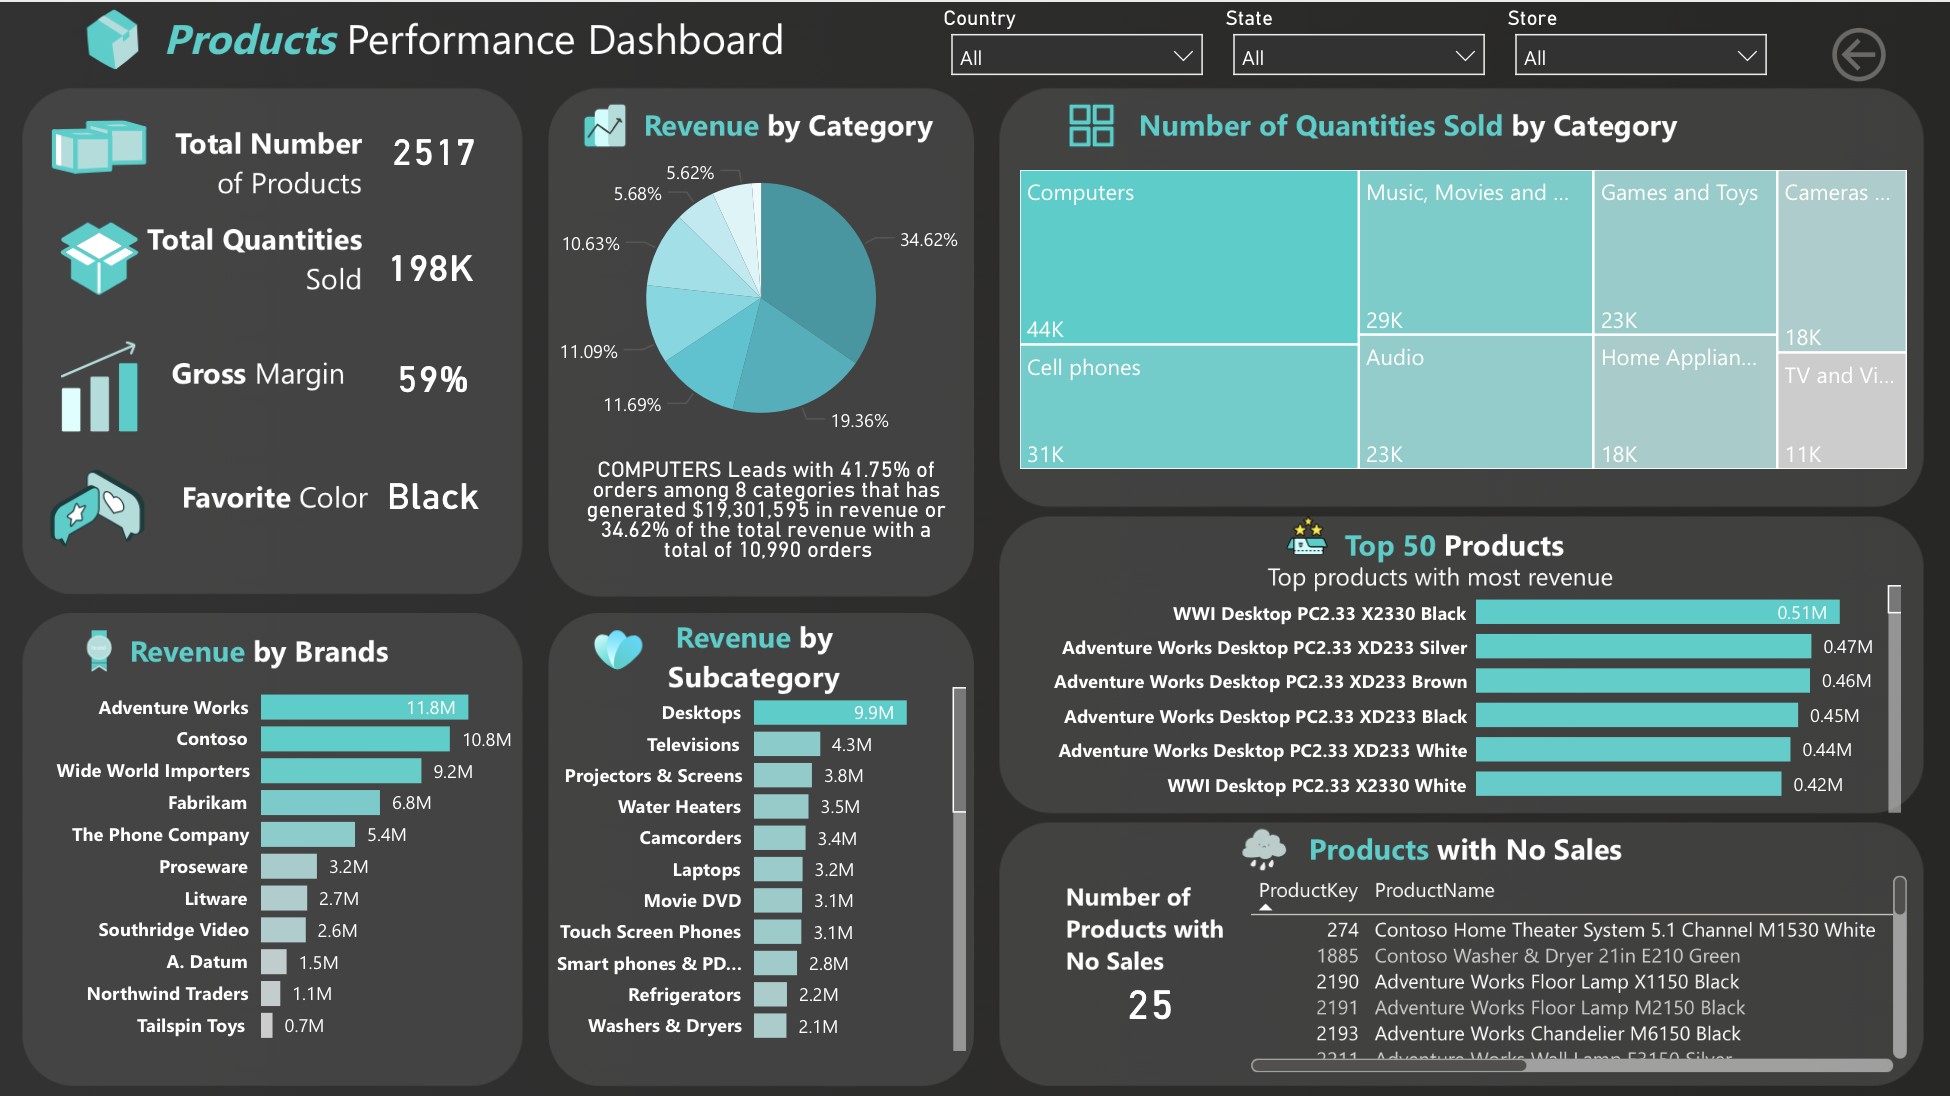

The page's visual inventory and layout, read from the dashboard file:
{"tool":"powerbi","page":{"name":"Products Performance","canvas":[1280,720],"ordinal":4},"visuals":[{"type":"card","fields":{"Values":["CountNonNull(dataspark products.ProductKey)"]},"box":[244.2,81.4,85.4,31.8],"z":0},{"type":"textbox","box":[89.3,73.5,154.9,63.5],"z":1000},{"type":"textbox","box":[97.3,0,430.9,59.6],"z":2000},{"type":"textbox","box":[81.4,407,204.5,57.6],"z":3000},{"type":"textbox","box":[395.1,397.1,202.5,67.5],"z":4000},{"type":"textbox","box":[694.9,569.9,121.1,99.3],"z":5000},{"type":"card","fields":{"Values":["CountNonNull(Query1.ProductKey)"]},"box":[665.2,619.5,182.7,73.5],"z":6000},{"type":"barChart","fields":{"Category":["dataspark products.ProductName"],"Y":["Calculations.Total Revenue"]},"box":[665.2,369.3,587.7,166.8],"z":7000},{"type":"card","fields":{"Values":["Calculations.% Gross Margin"]},"box":[182.7,224.4,206.5,43.7],"z":8000},{"type":"textbox","box":[109.2,224.4,135,63.5],"z":9000},{"type":"card","fields":{"Values":["Sum(dataspark sales.Quantity)"]},"box":[244.2,152.9,81.4,39.7],"z":10000},{"type":"textbox","box":[828,536.1,270,43.7],"z":11000},{"type":"textbox","box":[419,61.6,216.4,53.6],"z":12000},{"type":"textbox","box":[89.3,137,154.9,71.5],"z":13000},{"type":"card","fields":{"Values":["Min(dataspark products.Color)"]},"box":[234.3,285.9,103.2,73.5],"z":14000},{"type":"barChart","fields":{"Category":["dataspark products.Subcategory"],"Y":["Calculations.Total Revenue"]},"box":[347.5,436.8,291.9,256.1],"z":15000},{"type":"tableEx","fields":{"Values":["Products No orders.ProductKey","dataspark products.ProductName","dataspark products.Subcategory","dataspark products.Category","dataspark products.Brand","dataspark products.UnitCostUSD","dataspark products.UnitPriceUSD"]},"box":[816.1,567.9,440.8,139],"z":16000},{"type":"treemap","fields":{"Group":["dataspark products.Category"],"Values":["Sum(dataspark sales.Quantity)"]},"box":[665.2,105.2,591.7,206.5],"z":17000},{"type":"pieChart","fields":{"Category":["dataspark products.Category"],"Y":["Calculations.Total Revenue"]},"box":[360.5,83,279.5,222.8],"z":18000},{"type":"barChart","fields":{"Y":["Calculations.Total Revenue"],"Category":["dataspark products.Brand"]},"box":[29.8,432.9,315.7,260.1],"z":19000},{"type":"textbox","box":[115.2,287.9,146.9,99.3],"z":20000},{"type":"textbox","box":[665.2,61.6,520.2,43.7],"z":21000},{"type":"textbox","box":[694.9,337.5,520.2,43.7],"z":22000},{"type":"textbox","box":[828,343.5,369.3,53.6],"z":23000},{"type":"card","fields":{"Values":["Calculations.Caption Category Top"]},"box":[366.6,287.6,273.4,103.3],"z":24000},{"type":"slicer","title":"Country","fields":{"Values":["dataspark stores.Country"]},"box":[615.6,4.1,184.8,57.9],"z":25000},{"type":"slicer","title":"Store","fields":{"Values":["dataspark sales.StoreKey"]},"box":[985.3,4.1,184.8,57.9],"z":26000},{"type":"slicer","title":"State","fields":{"Values":["dataspark stores.State"]},"box":[800.4,4.1,184.8,57.9],"z":27000},{"type":"actionButton","box":[1197.8,6,45.9,55.9],"z":28000}]}

Visuals, with their boxes in screenshot pixels (x1, y1, x2, y2), scaled from the page's 1280x720 canvas onto the 1950x1096 screenshot:
card - CountNonNull(dataspark products.ProductKey): 372/124/502/172
textbox: 136/112/372/209
textbox: 148/0/805/91
textbox: 124/620/436/707
textbox: 602/604/910/707
textbox: 1059/868/1243/1019
card - CountNonNull(Query1.ProductKey): 1013/943/1292/1055
barChart - dataspark products.ProductName x Calculations.Total Revenue: 1013/562/1909/816
card - Calculations.% Gross Margin: 278/342/593/408
textbox: 166/342/372/438
card - Sum(dataspark sales.Quantity): 372/233/496/293
textbox: 1261/816/1673/883
textbox: 638/94/968/175
textbox: 136/209/372/317
card - Min(dataspark products.Color): 357/435/514/547
barChart - dataspark products.Subcategory x Calculations.Total Revenue: 529/665/974/1055
tableEx - Products No orders.ProductKey x dataspark products.ProductName: 1243/864/1915/1076
treemap - dataspark products.Category x Sum(dataspark sales.Quantity): 1013/160/1915/474
pieChart - dataspark products.Category x Calculations.Total Revenue: 549/126/975/465
barChart - Calculations.Total Revenue x dataspark products.Brand: 45/659/526/1055
textbox: 176/438/399/589
textbox: 1013/94/1806/160
textbox: 1059/514/1851/580
textbox: 1261/523/1824/604
card - Calculations.Caption Category Top: 558/438/975/595
"Country" slicer: 938/6/1219/94
"Store" slicer: 1501/6/1783/94
"State" slicer: 1219/6/1501/94
actionButton: 1825/9/1895/94
